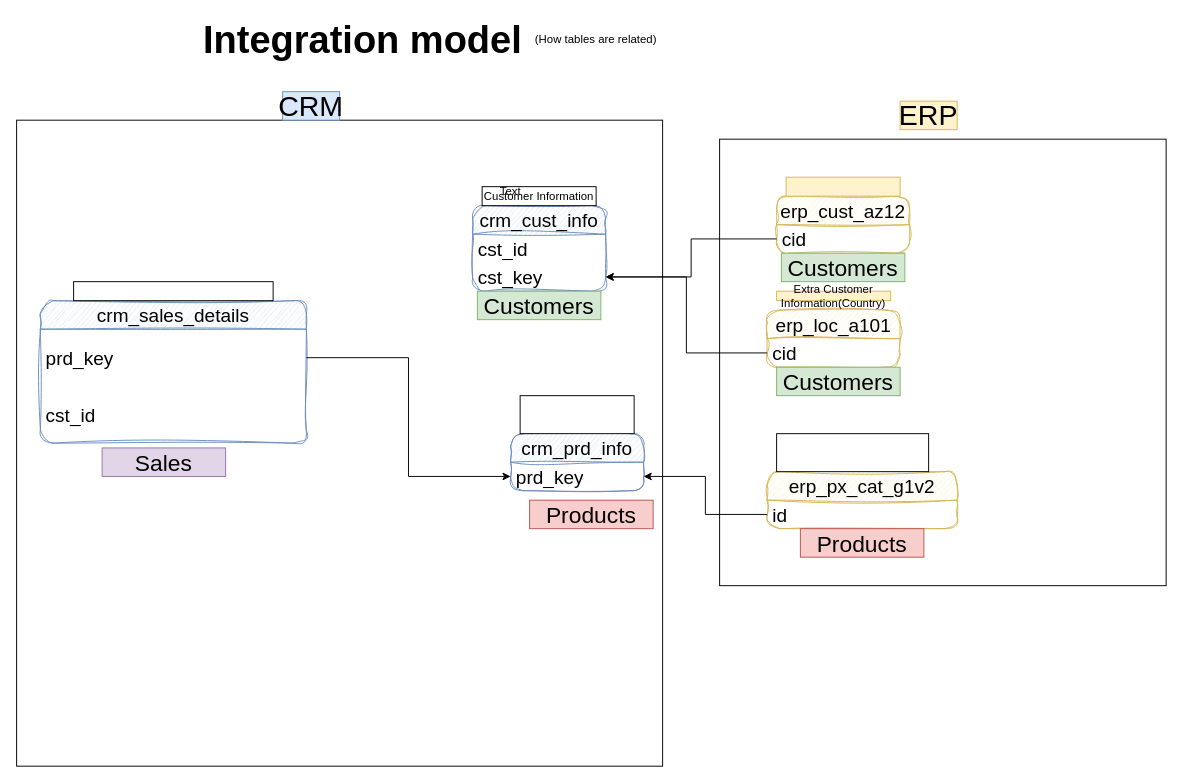
Image size: 1183x783. Some labels were removed from this diagram. Here are the shapes that lost their labels. From the top down, the centre of each, then its label:
At point (842, 186): "Extra Customer Information(BirthDate)".
At point (173, 291): "Transactional Records about Sales".
At point (576, 414): "Current & History Product Information".
At point (852, 452): "Product Category & Subcategory Information".
